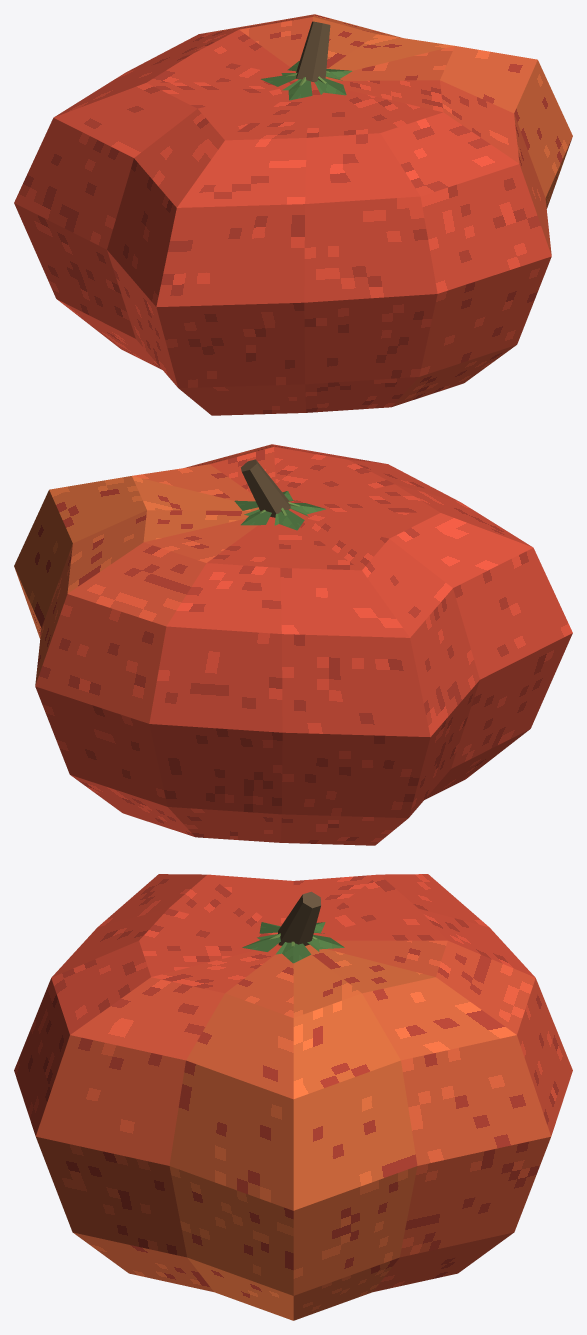
The model's file is tomato.glb.
The picture shows the model from 3 angles, top to bottom: view 1: azimuth 30°, elevation 25°; view 2: azimuth 150°, elevation 25°; view 3: azimuth 270°, elevation 25°; orthographic projection. The views are drawn at different scales.
Parts seen in each view (by area): view 1: block_tomato, block_woody stem; view 2: block_tomato, block_woody stem; view 3: block_tomato, block_woody stem.
Part boxes in pixels (x1,y1,x2,y2): block_tomato: (14, 14, 572, 415); block_woody stem: (296, 21, 330, 81); block_tomato: (14, 444, 572, 845); block_woody stem: (241, 459, 290, 517); block_tomato: (14, 874, 572, 1320); block_woody stem: (278, 891, 321, 945).
Size of the model in its own units: 0.0962 by 0.0597 by 0.0874.
2 materials, 2 textured.
